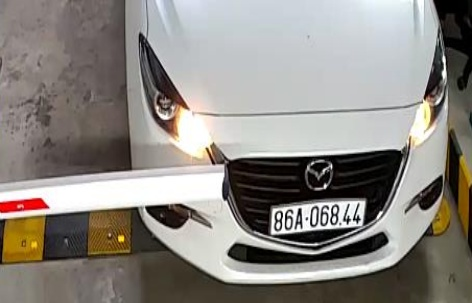plate: (268, 196, 364, 232)
